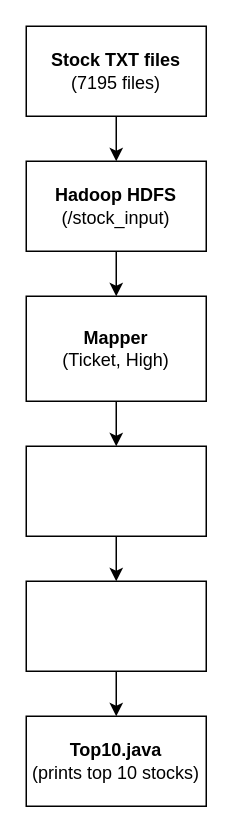
Image size: 233x833. Some labels were removed from this diagram. Here are the shapes that lost their labels. From the top down, the centre of each, then its label:
the point at 115,490: Shuffle
the point at 115,625: Reducer (Ticket, Max)
